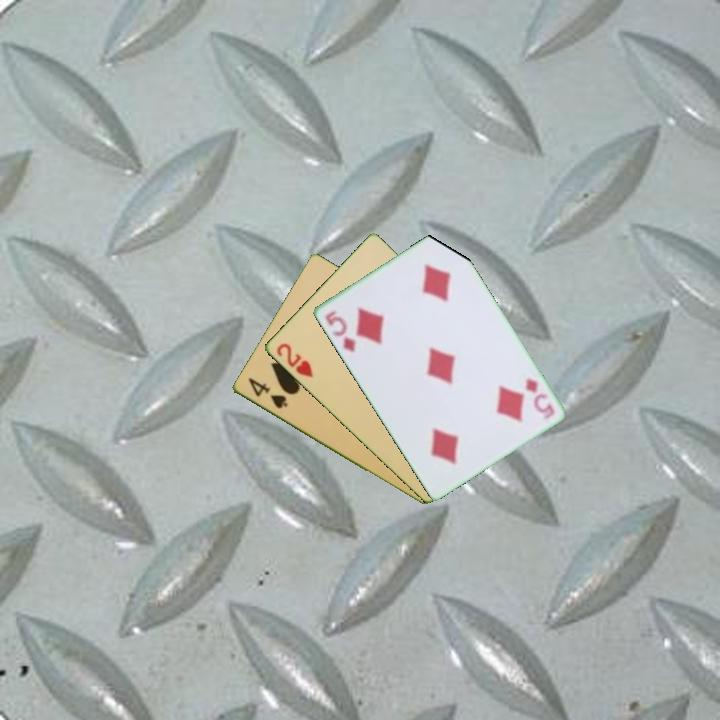2h: (272, 340, 316, 381)
4s: (244, 374, 290, 412)
5d: (521, 374, 558, 422), (321, 307, 358, 354)
